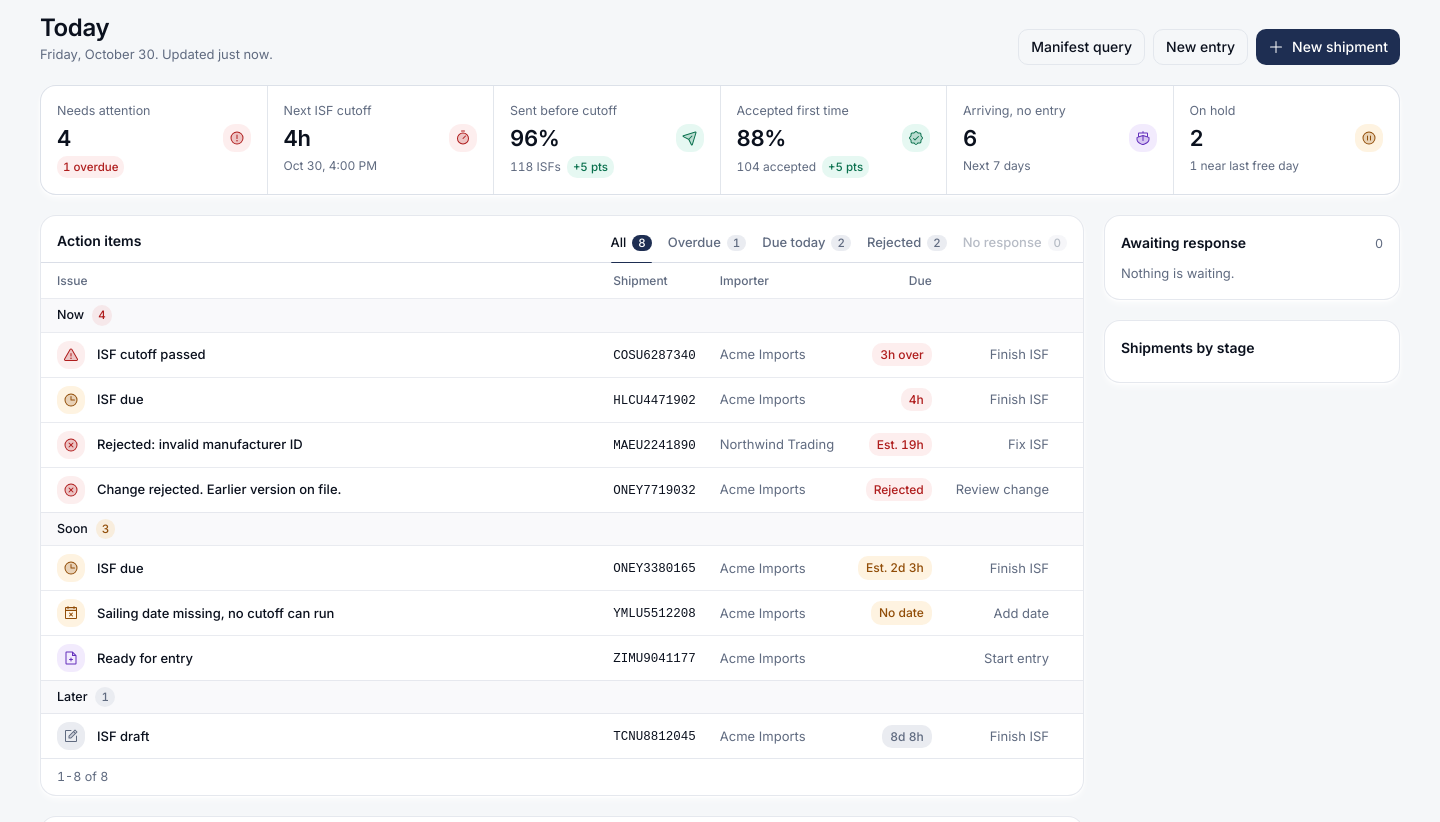
Test: DashboardHome › filters through the server, so the result covers the whole org
Click the button "Rejected2". click: (907, 246)
box: [867,228,947,263]
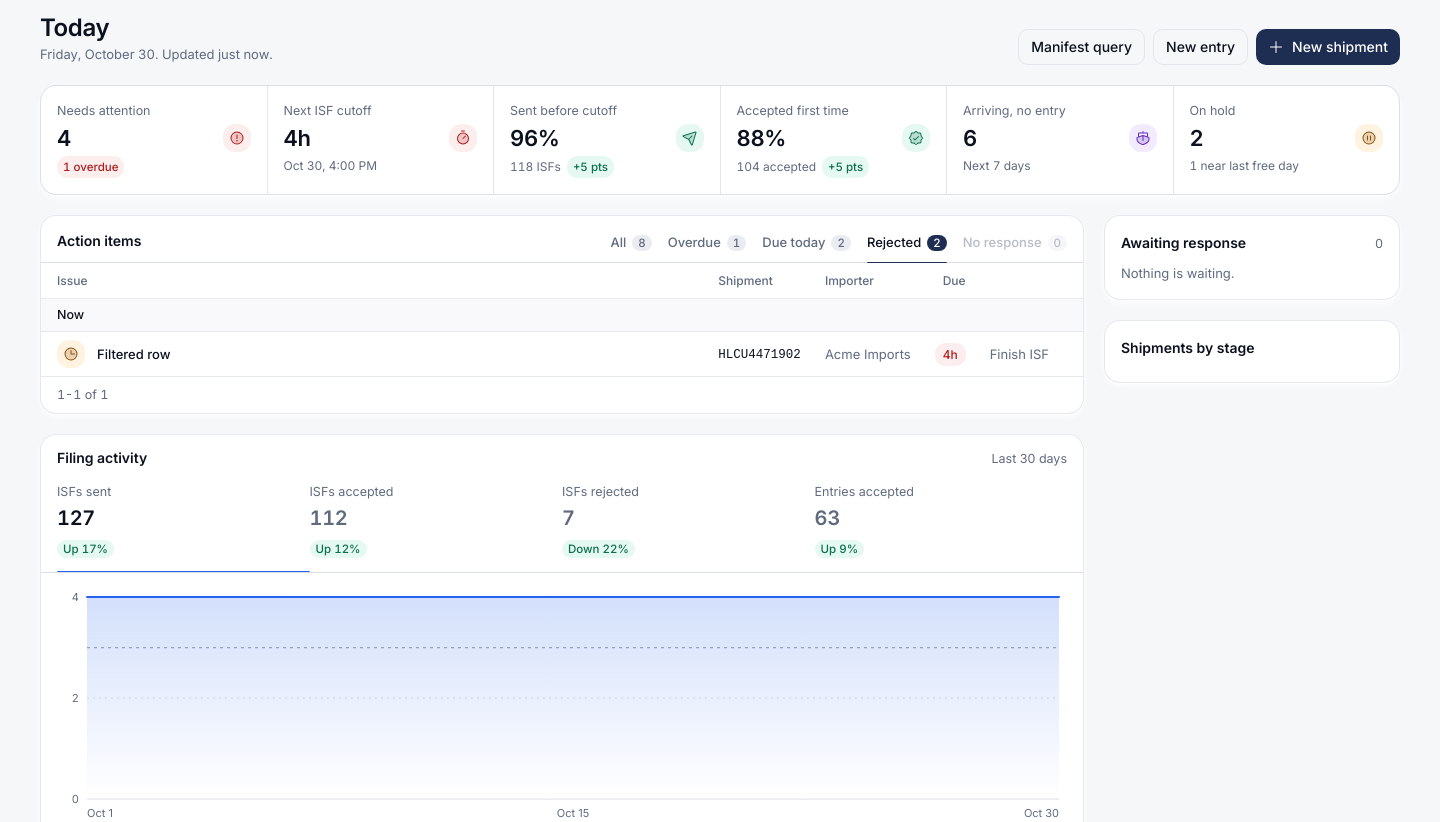
Expected: the link "Filtered row" is shown, [97,346,170,362]
